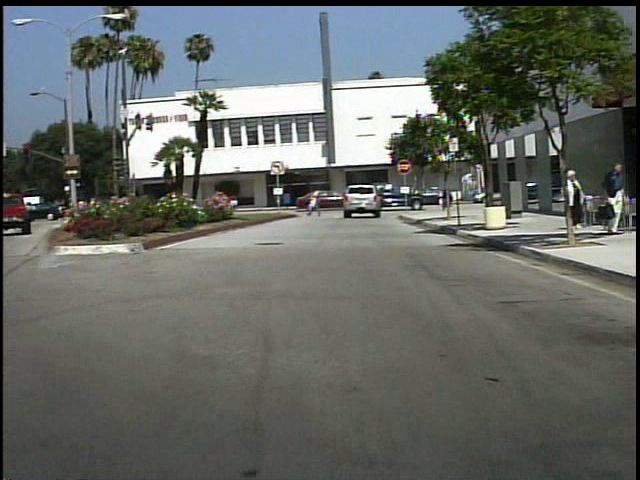person: (602, 160, 627, 238), (562, 170, 589, 230), (438, 179, 462, 214), (310, 186, 326, 219)
